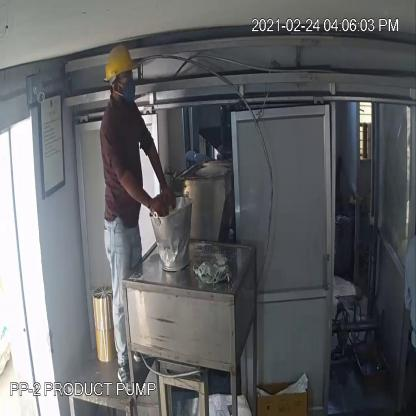helmet: (100, 36, 142, 90)
